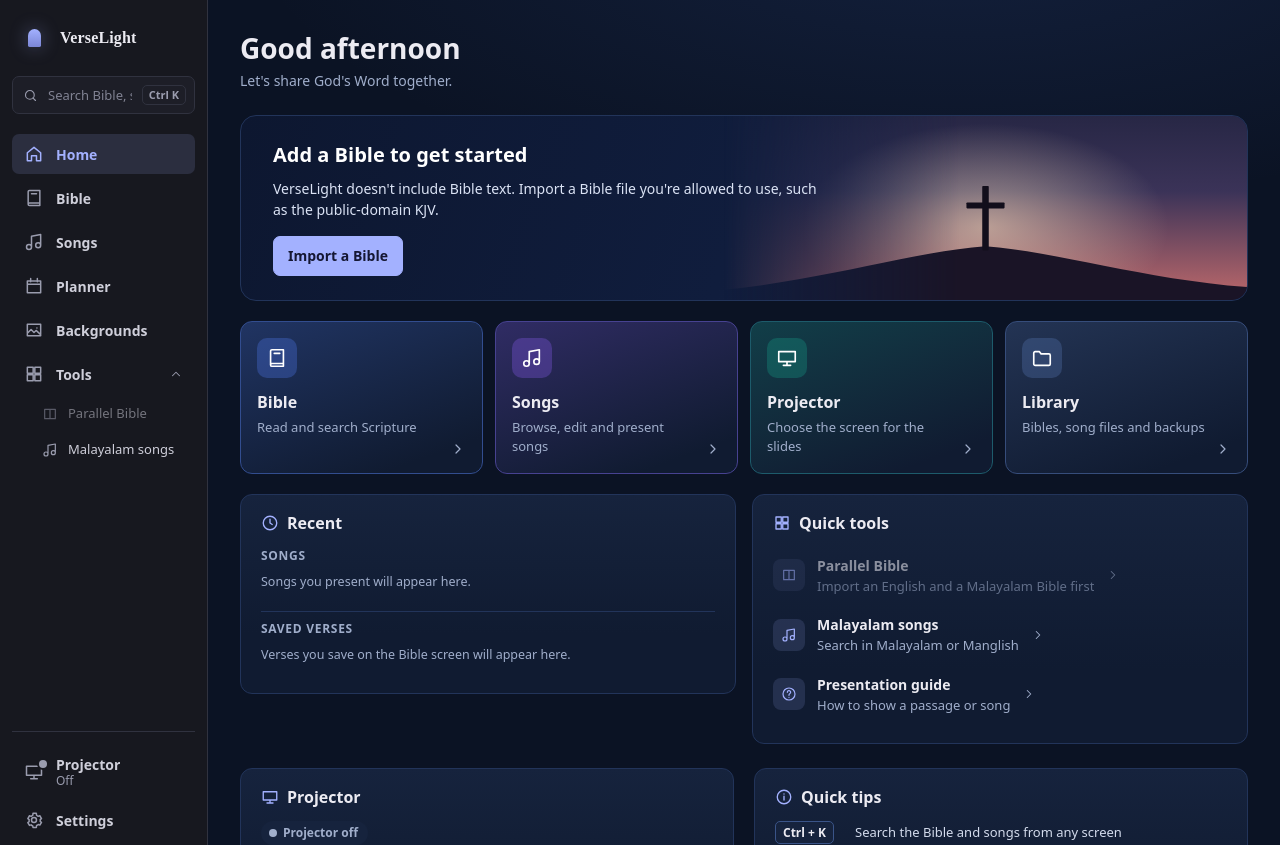
Test: presenting a song › shows the included slides in order and moves with Previous and Next
The image size is (1280, 845).
Click the button "Songs": (104, 242) [12,222,195,262]
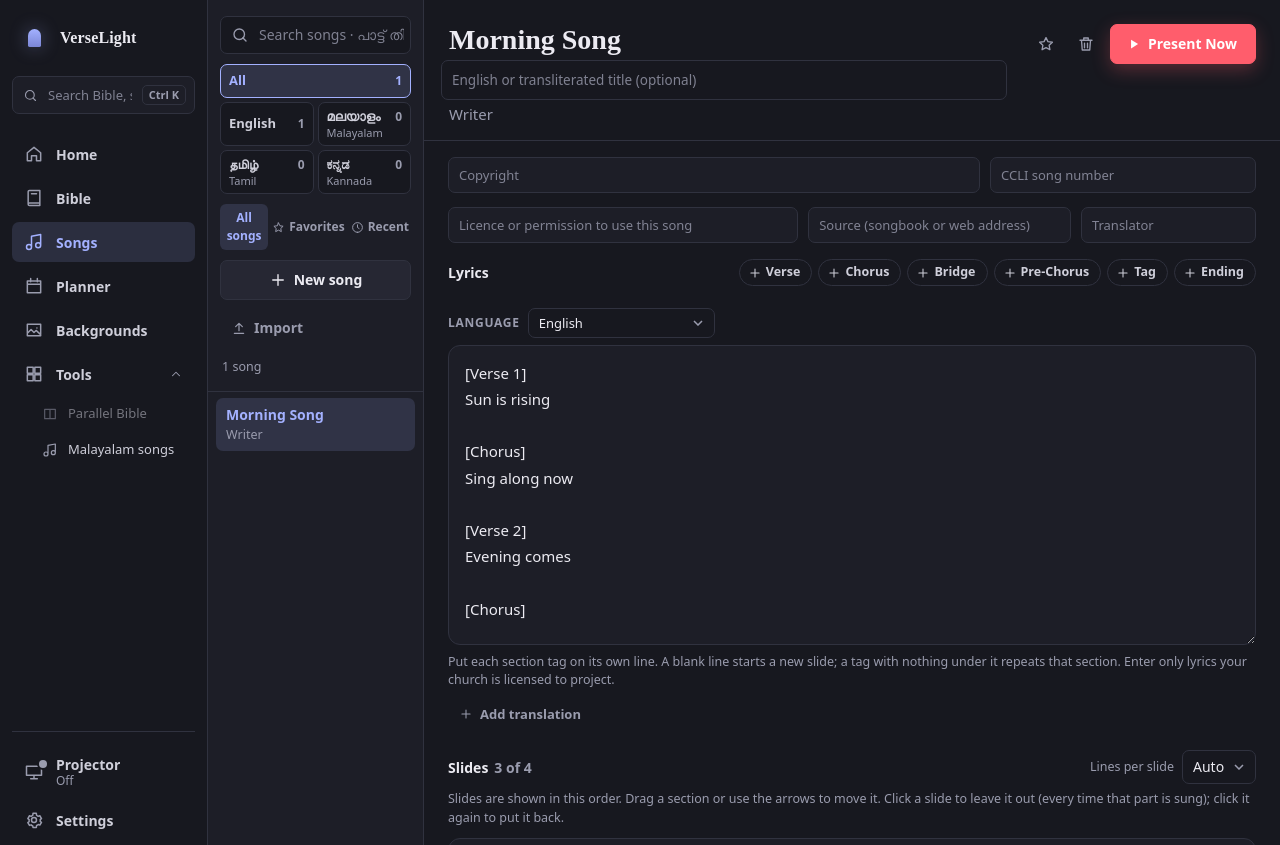
Click the button "Present Now": (1183, 44) [1110,24,1256,64]
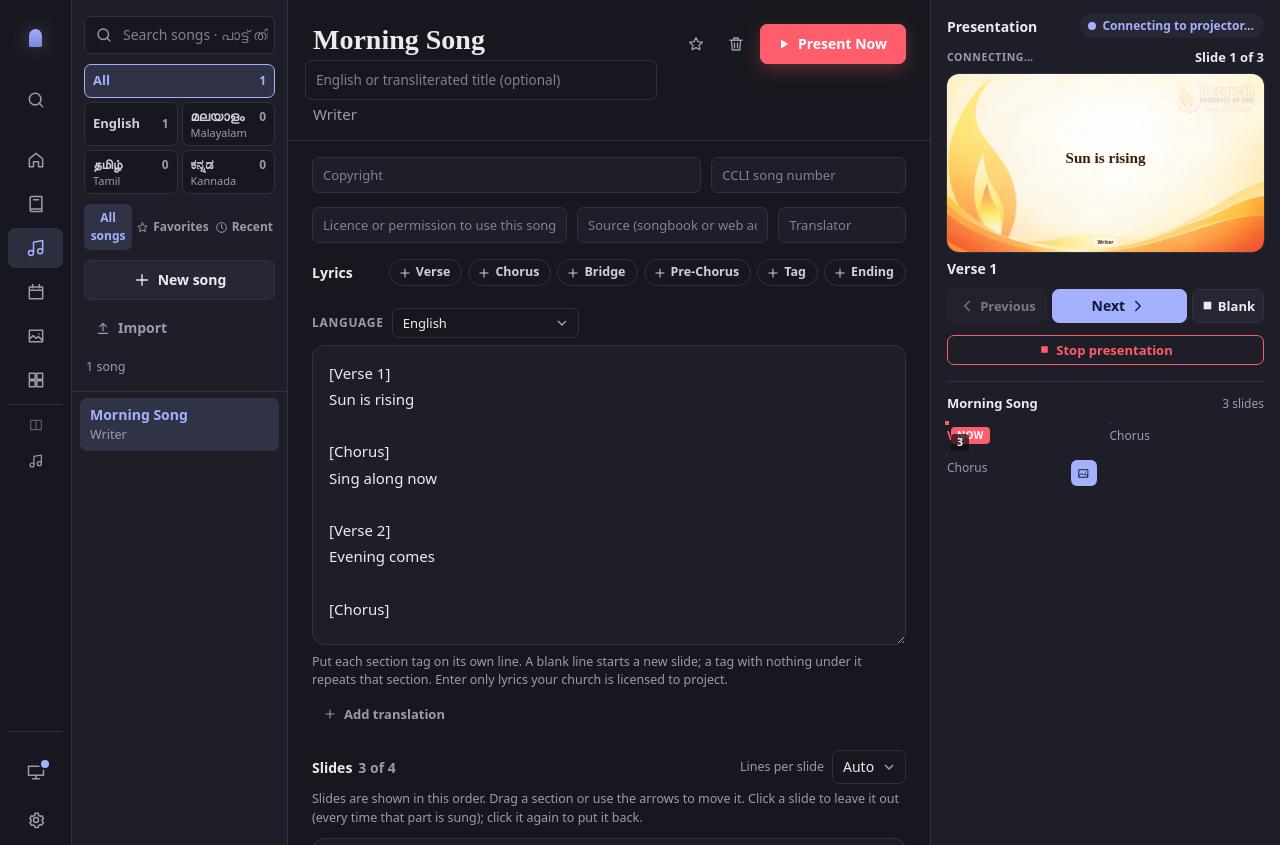
Result: the text "Slide 1 of 3" is shown at [1195,48,1264,68]
Click the button "Next": (1119, 306) [1052,289,1187,323]
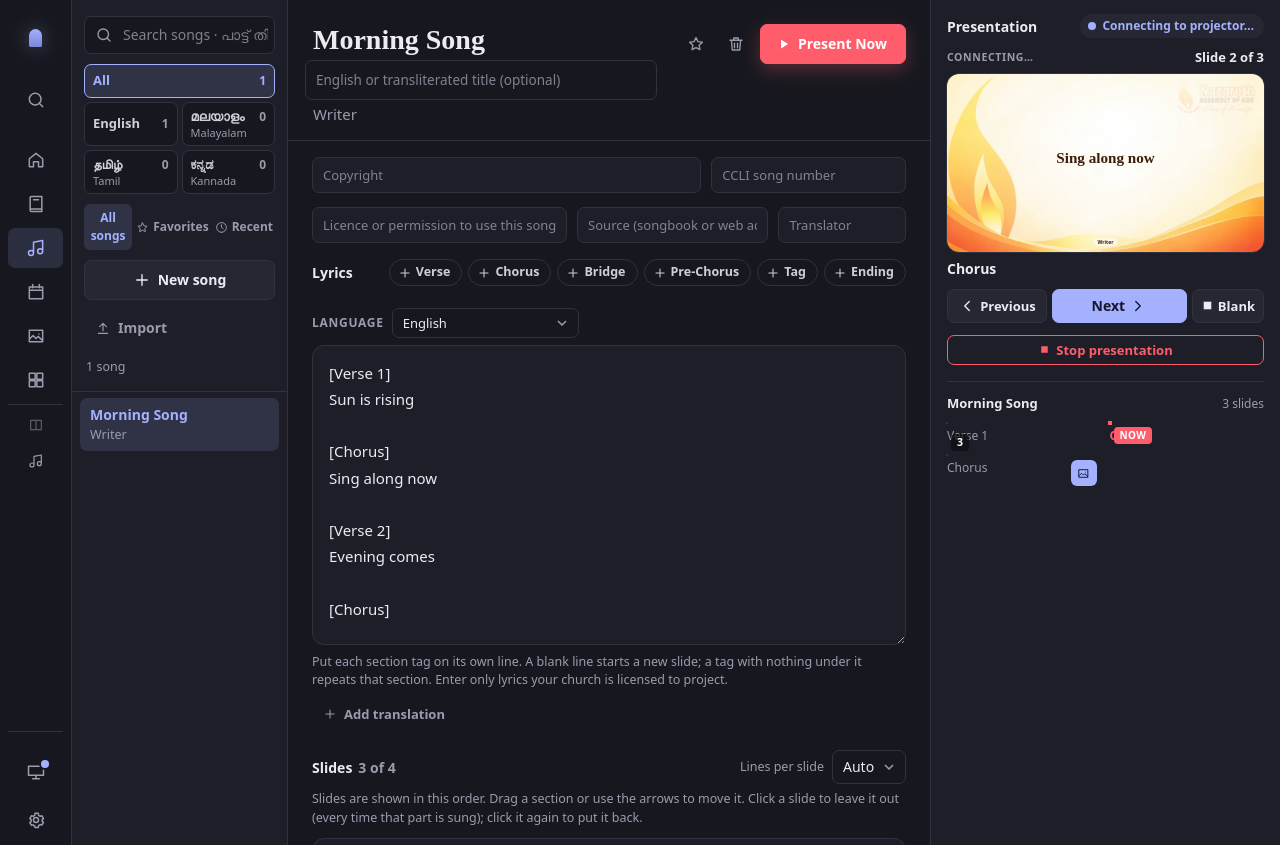
Click the button "Next": (1119, 306) [1052,289,1187,323]
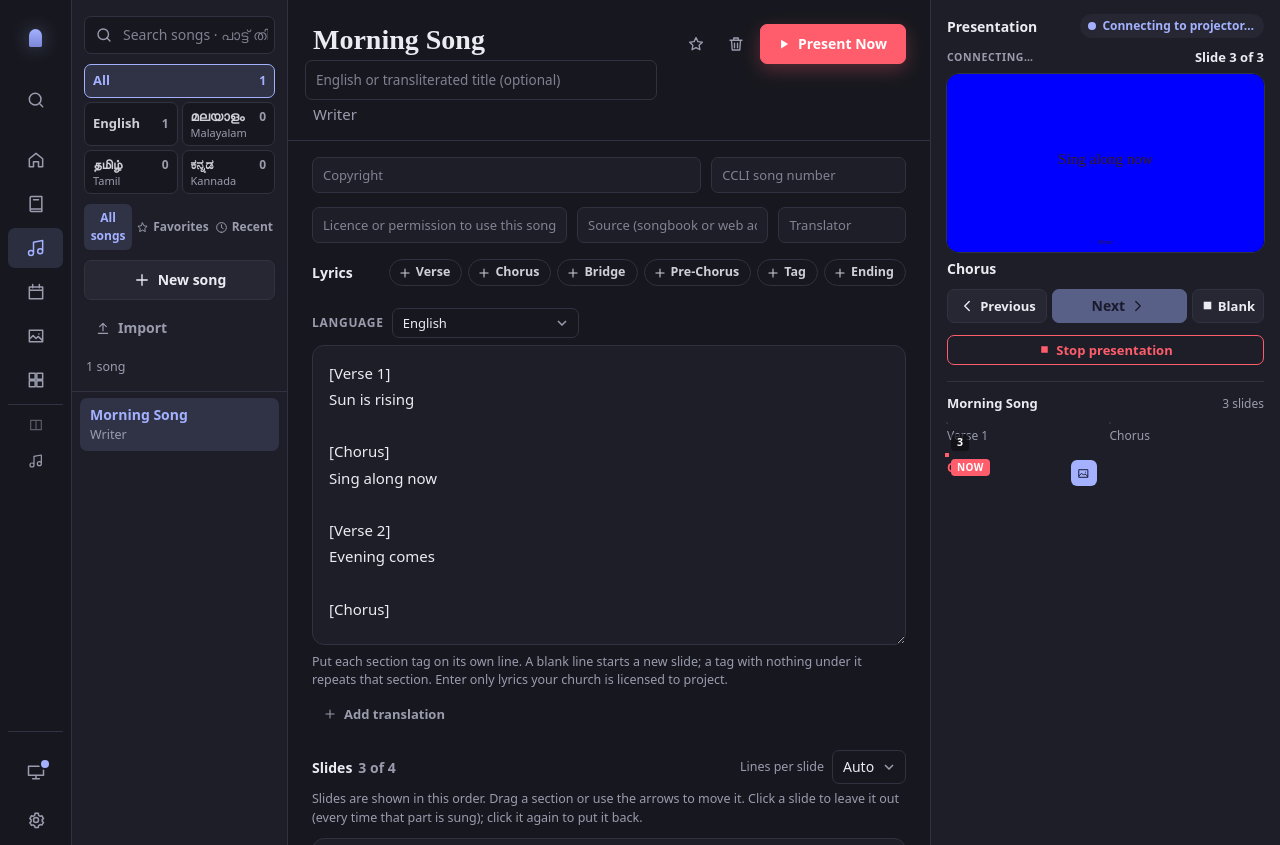
Result: the text "Slide 3 of 3" is shown at [1195,48,1264,68]
Result: the button "Next" is disabled at [1052,289,1187,323]
Click the button "Previous": (997, 306) [947,289,1047,323]
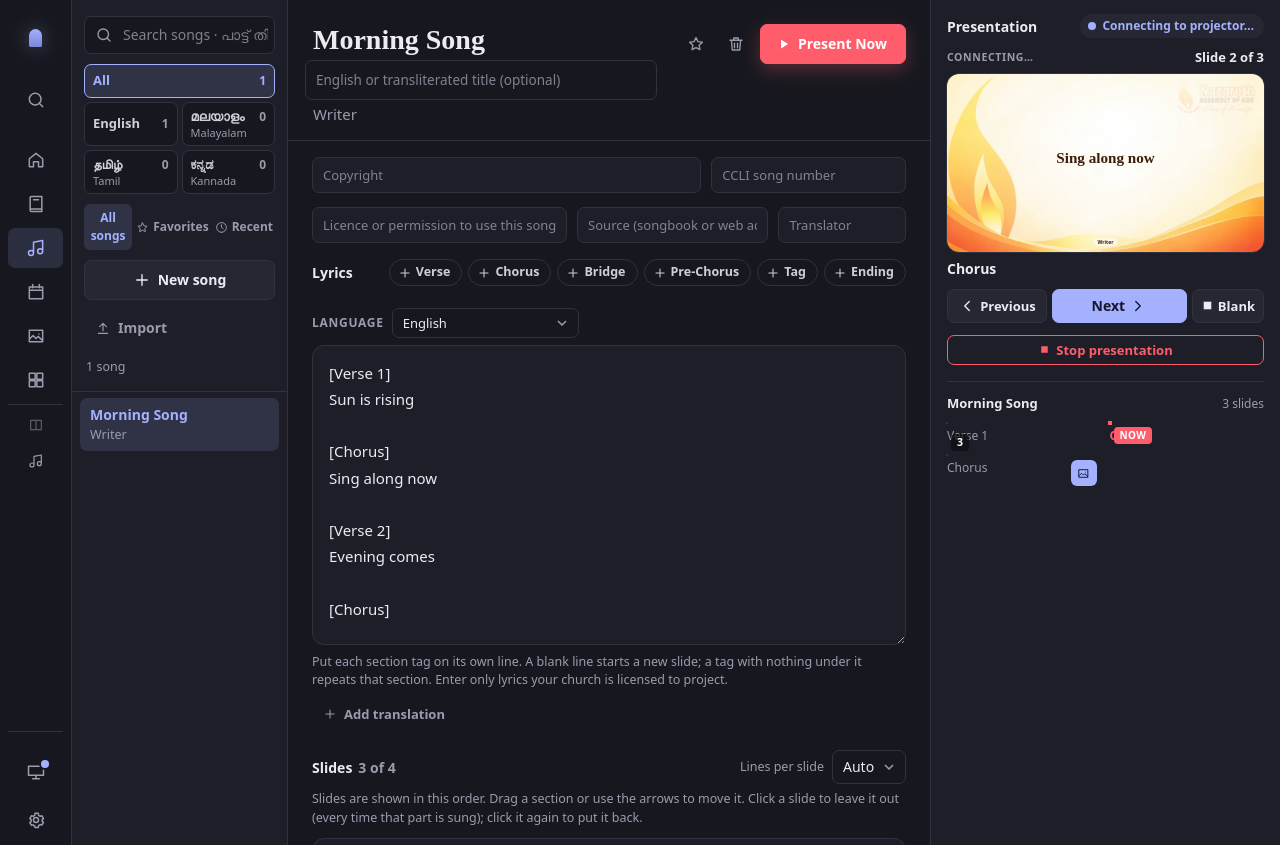
Click the button "Previous": (997, 306) [947,289,1047,323]
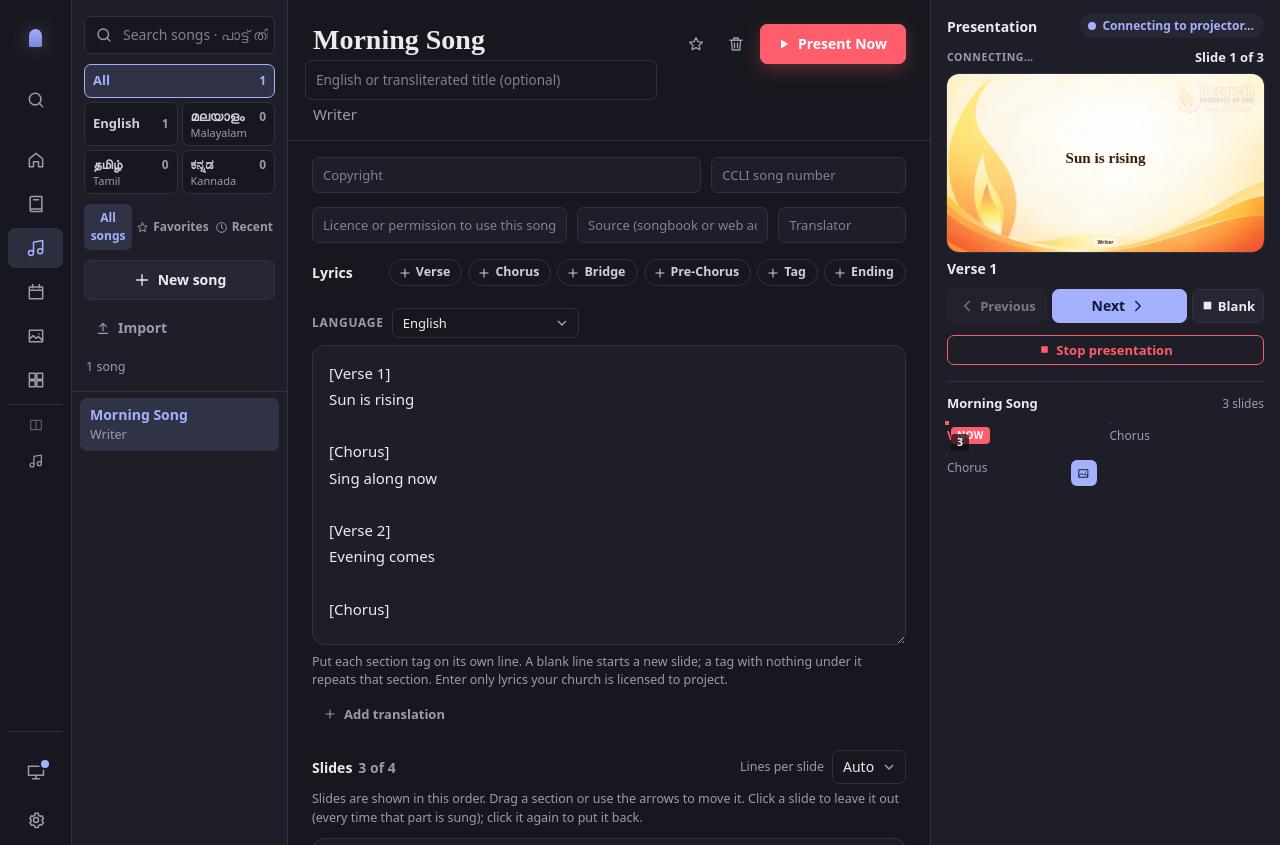
Result: the button "Previous" is disabled at [947,289,1047,323]
